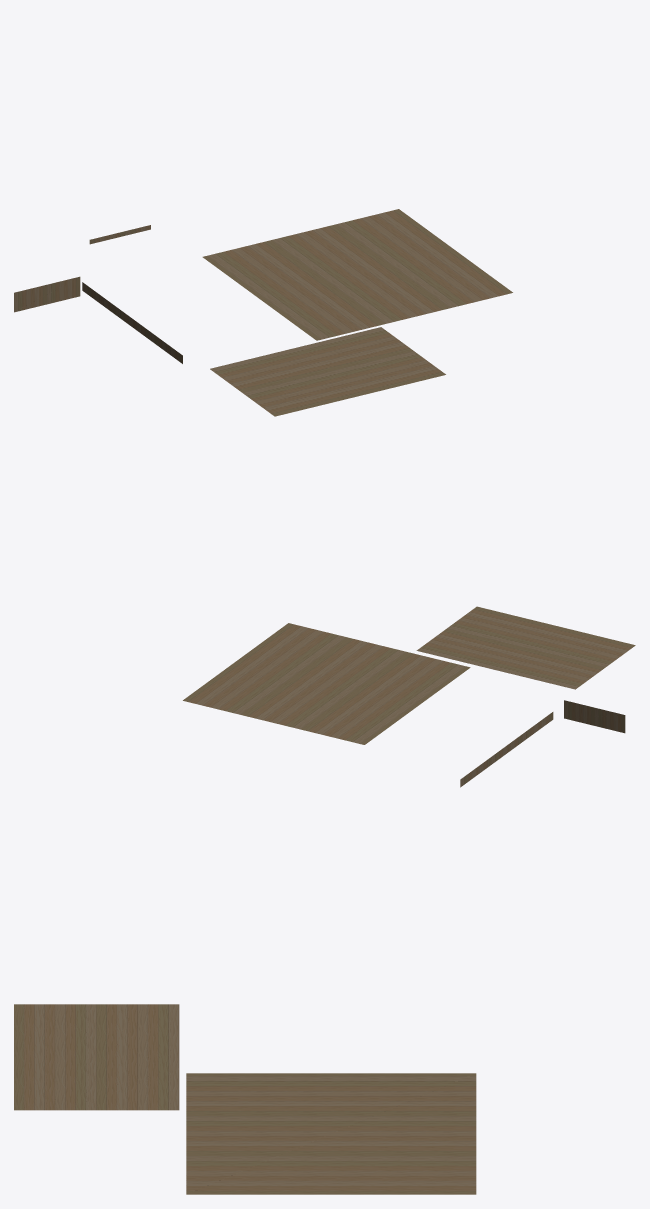
File: kd_stage_135c43_4_22.glb
The picture shows the model from 3 angles, top to bottom: view 1: azimuth 30°, elevation 25°; view 2: azimuth 150°, elevation 25°; view 3: azimuth 270°, elevation 25°; orthographic projection. The views are drawn at different scales.
Visible parts, largest first — view 1: kd_stage_135c43_4_22; view 2: kd_stage_135c43_4_22; view 3: kd_stage_135c43_4_22.
Part boxes in pixels (x1=…): kd_stage_135c43_4_22: x1=14, y1=209, x2=512, y2=416; kd_stage_135c43_4_22: x1=183, y1=606, x2=635, y2=787; kd_stage_135c43_4_22: x1=14, y1=1004, x2=476, y2=1194.
Size of the model in its own units: 9.07 by 3.53 by 7.67.
1 material, 1 textured.
